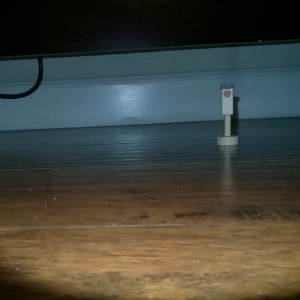traffic light red: (215, 82, 240, 147)
